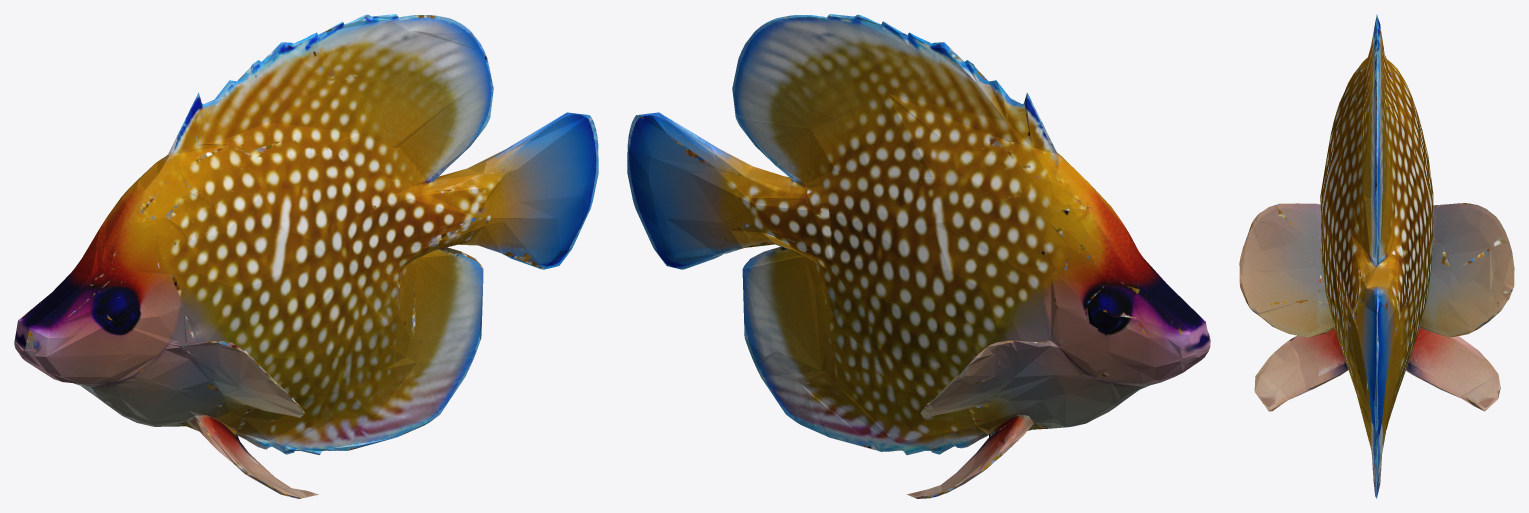
The model's file is fish_0021_smpl23_resized.glb.
The picture shows the model from 3 angles, left to right: view 1: azimuth 30°, elevation 25°; view 2: azimuth 150°, elevation 25°; view 3: azimuth 270°, elevation 25°; orthographic projection. The views are drawn at different scales.
Parts seen in each view (by area): view 1: world; view 2: world; view 3: world.
Part boxes in pixels (x1=…): world: x1=14, y1=14, x2=598, y2=498; world: x1=627, y1=14, x2=1210, y2=498; world: x1=1239, y1=14, x2=1514, y2=498.
Bounding box in the file's own units: 1.99 × 1.42 × 0.8421.
Materials: 1 (1 with a texture image).
